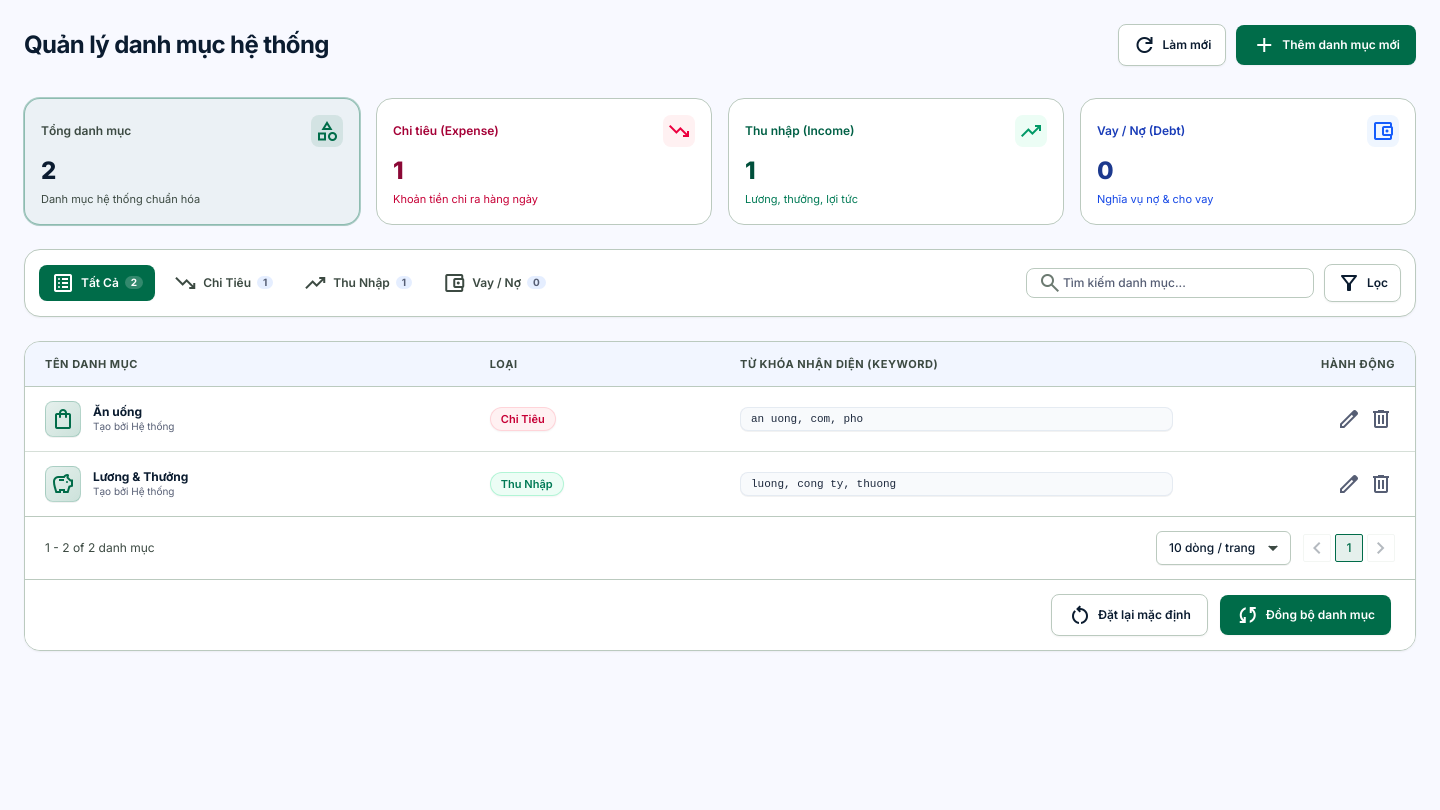
Scenario: CategoryPage Refinements & 2-Tier Testing Suite › 🧱 TẦNG 1: UI Rendering & Clean Header / Modals Verification › 1.2. Modal Thêm/Sửa: Dòng gợi ý từ khóa đã được rút gọn đúng theo PO yêu cầu
Expected: the text "Ăn uống" is shown, x1=93 y1=404 x2=142 y2=420
// Mở modal Thêm danh mục
Click the button "Thêm danh mục mới": (1326, 45) x1=1236 y1=25 x2=1416 y2=65
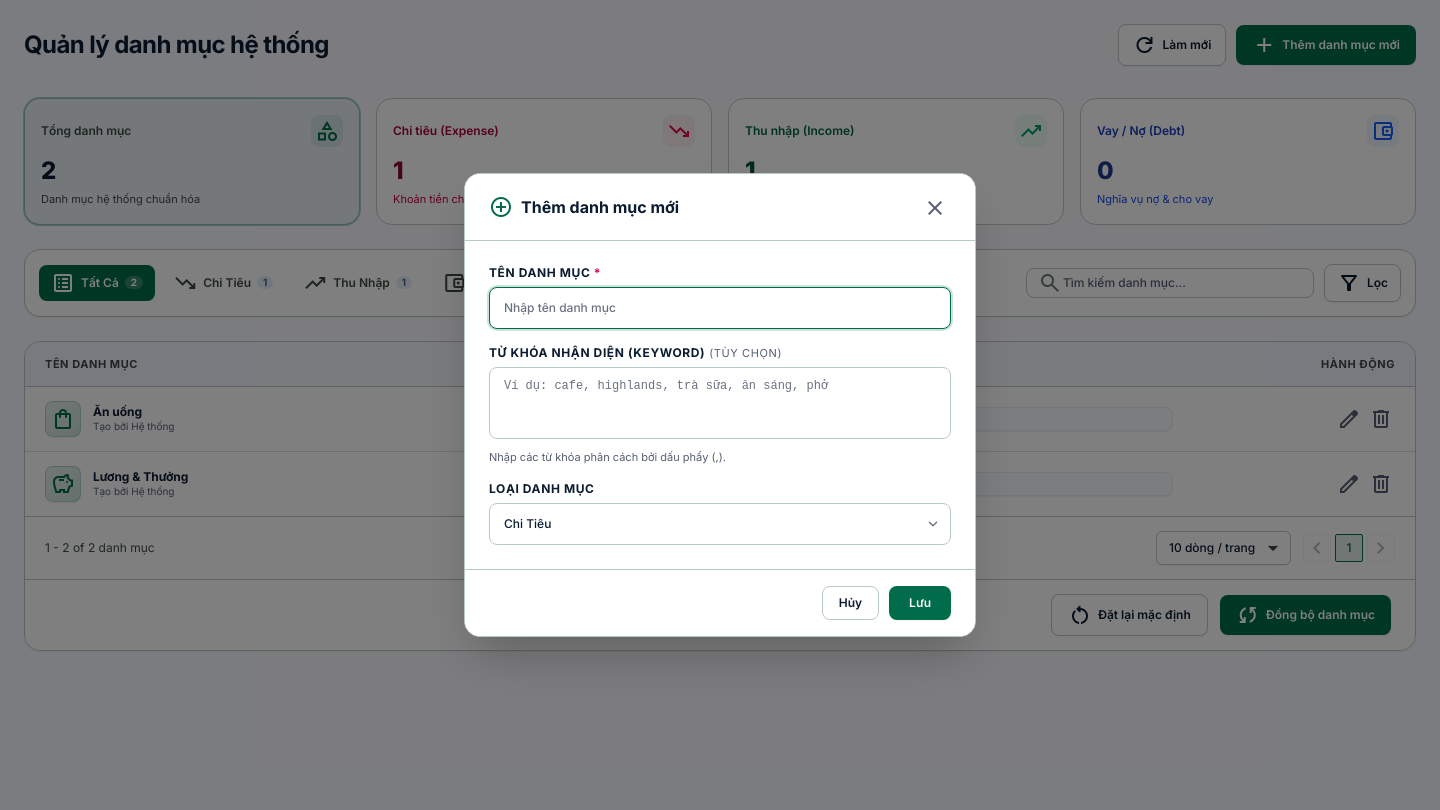
Now the text "Nhập các từ khóa phân cách bởi dấu phẩy (,)." is shown, box x1=489 y1=450 x2=726 y2=464
